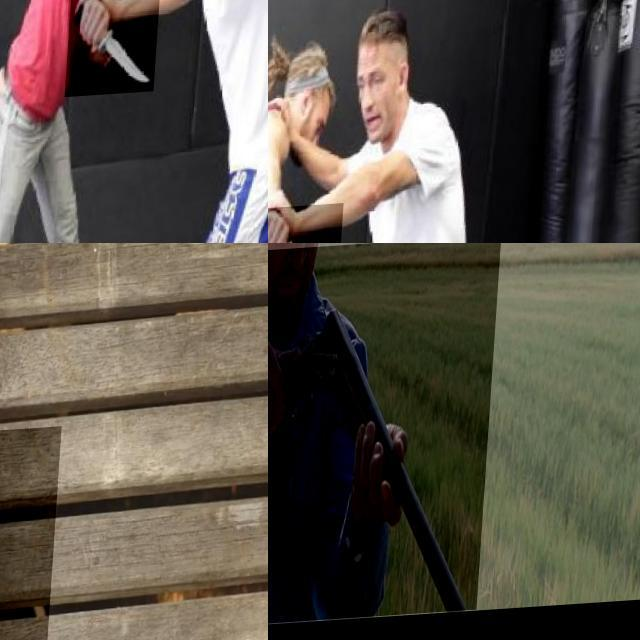-: (0, 431, 107, 640), (69, 0, 163, 100), (268, 207, 346, 243)
gun-knife-thesis - v11 Yolov5 augmented: (268, 243, 505, 632)
